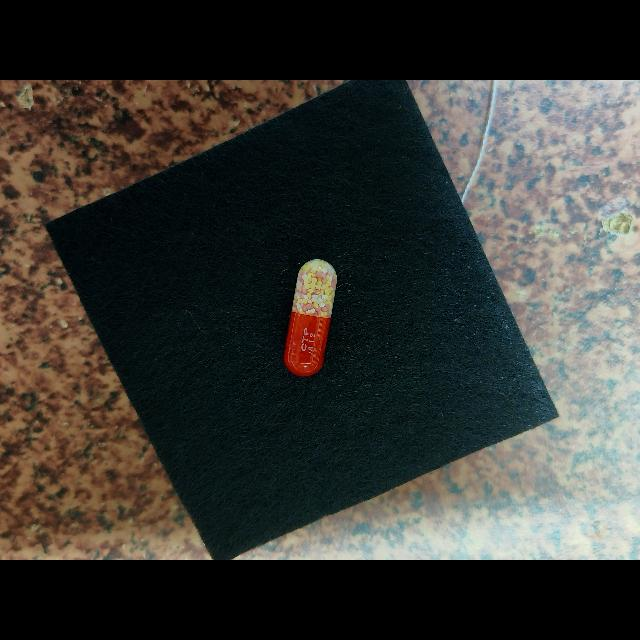Intact Capsule: (284, 259, 337, 377)
